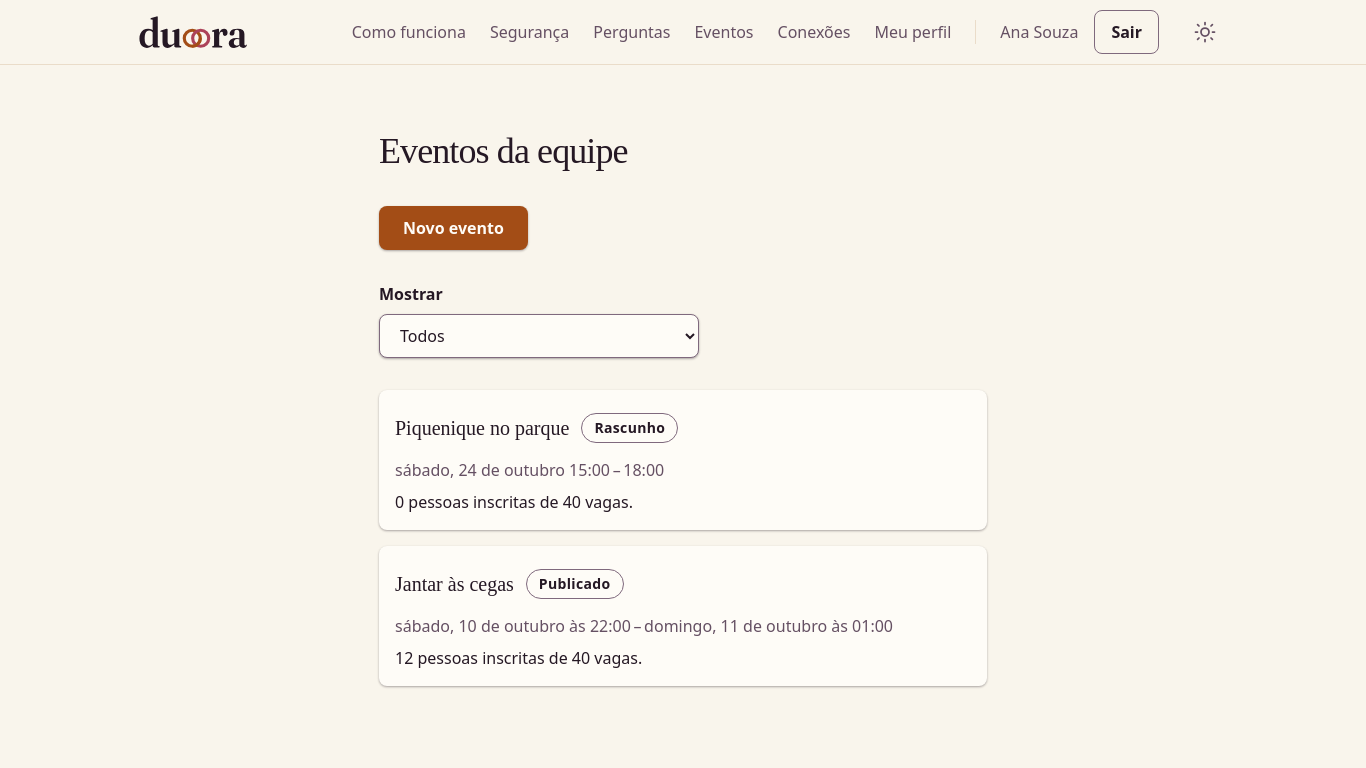
Scenario: admin events page › status filter › asks the API only for the Rascunhos
Select "Rascunhos" in the dropdown labelled "Mostrar" at (539, 336), box [379, 314, 699, 358]
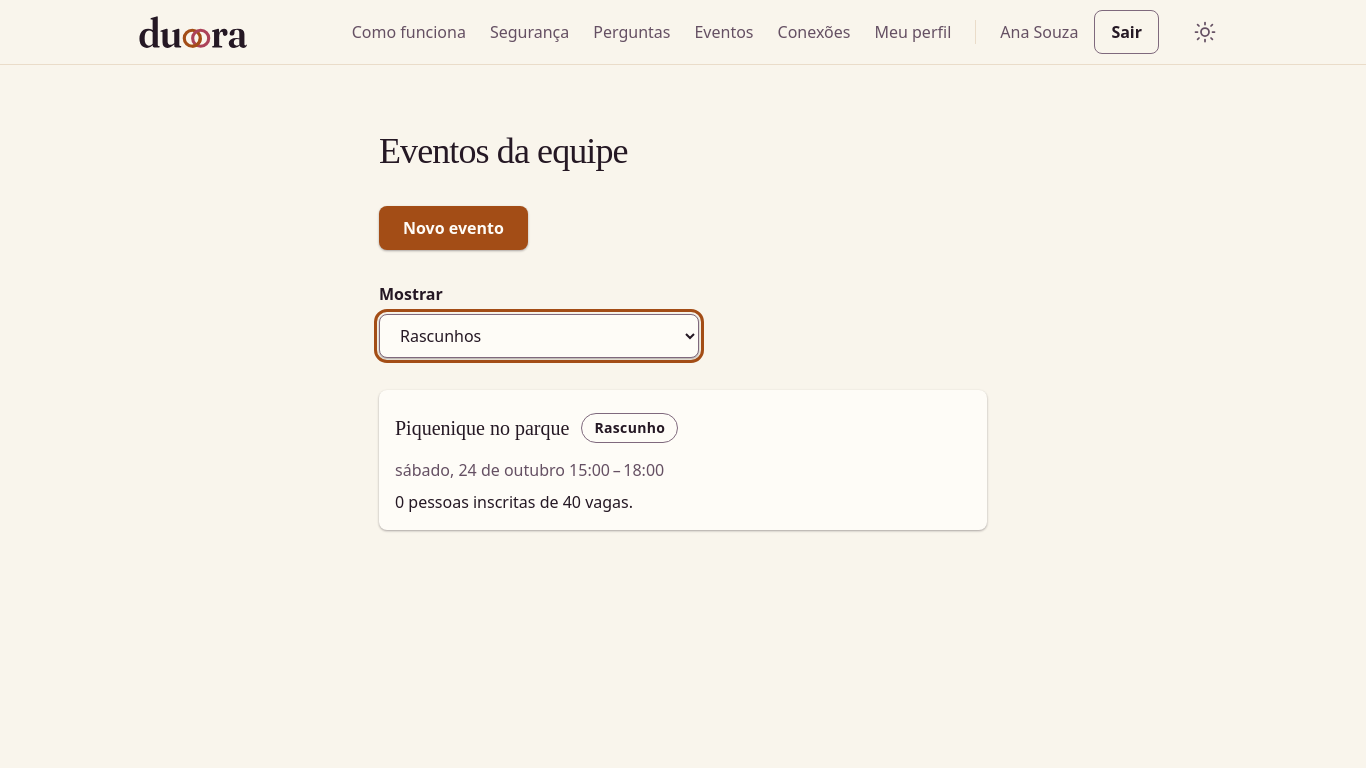
Now the number of list items is 1, box [379, 390, 987, 530]
Now the link "Jantar às cegas" is gone
